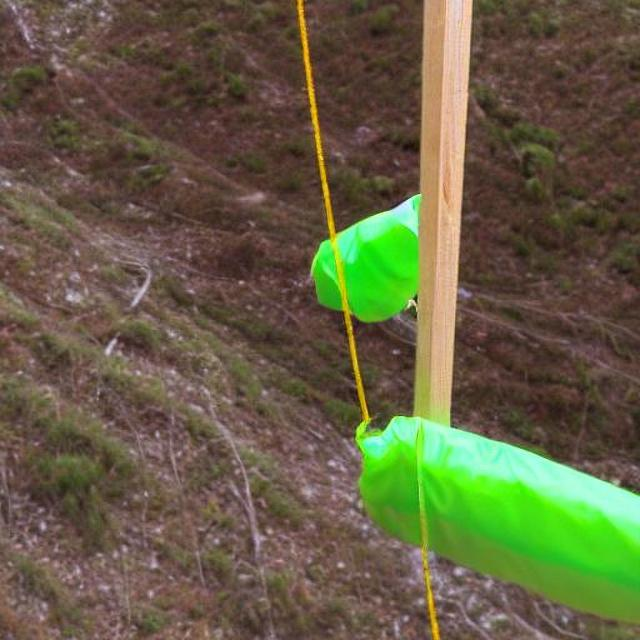floating object: (361, 411, 637, 616), (308, 193, 420, 319)
